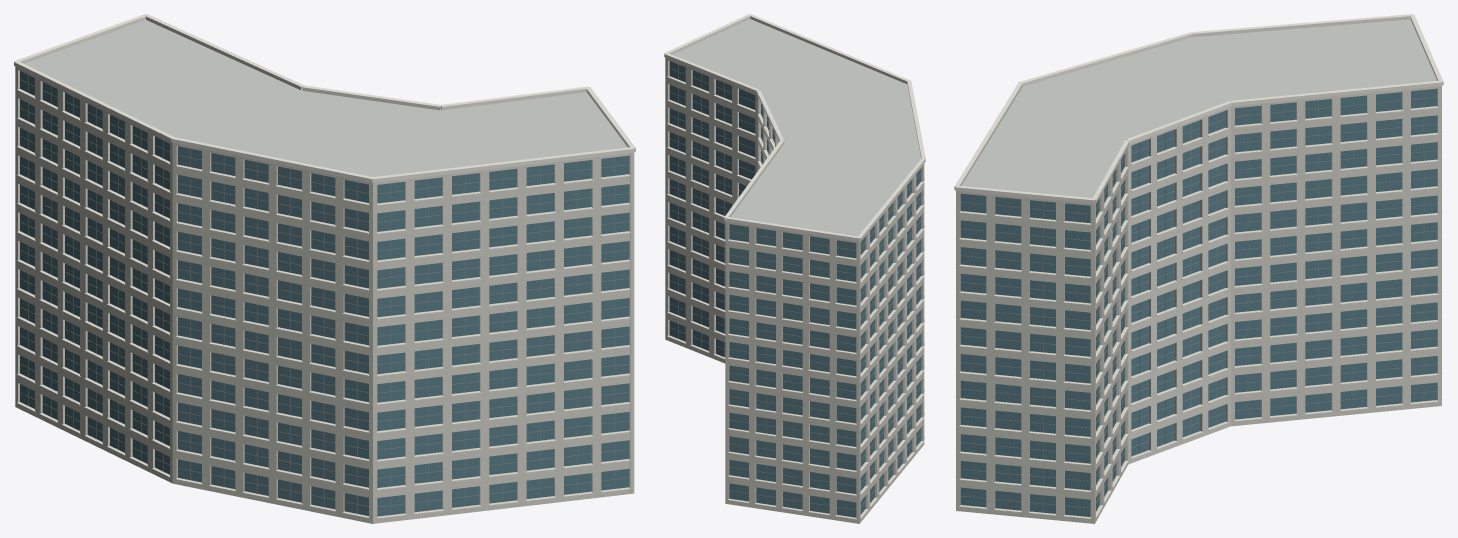
3 views of the same model, side by side, from view 1: azimuth 30°, elevation 25°; view 2: azimuth 150°, elevation 25°; view 3: azimuth 270°, elevation 25° (orthographic). The views are drawn at different scales.
Visible parts, largest first — view 1: wall, glass, roof, trim, metal; view 2: wall, glass, roof, trim, metal; view 3: wall, glass, roof, trim, metal.
Boxes of the visible parts, x1,y1,x2,y2 form: wall: (15, 66, 634, 523); glass: (20, 71, 628, 516); roof: (24, 20, 627, 176); trim: (14, 14, 635, 518); metal: (19, 75, 629, 514); wall: (665, 57, 924, 523); glass: (669, 61, 921, 517); roof: (672, 19, 921, 236); trim: (664, 14, 925, 519); metal: (669, 64, 921, 516); wall: (956, 86, 1441, 523); glass: (960, 88, 1437, 516); roof: (961, 19, 1436, 198); trim: (954, 14, 1443, 519); metal: (960, 90, 1437, 515).
Size of the model in its own units: 48.61 by 39.44 by 53.92.
